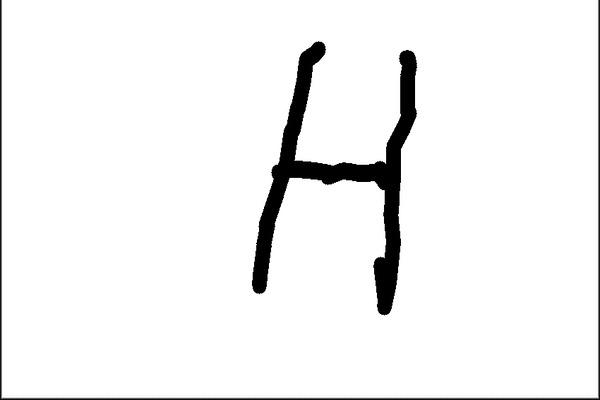H: (246, 34, 422, 319)
